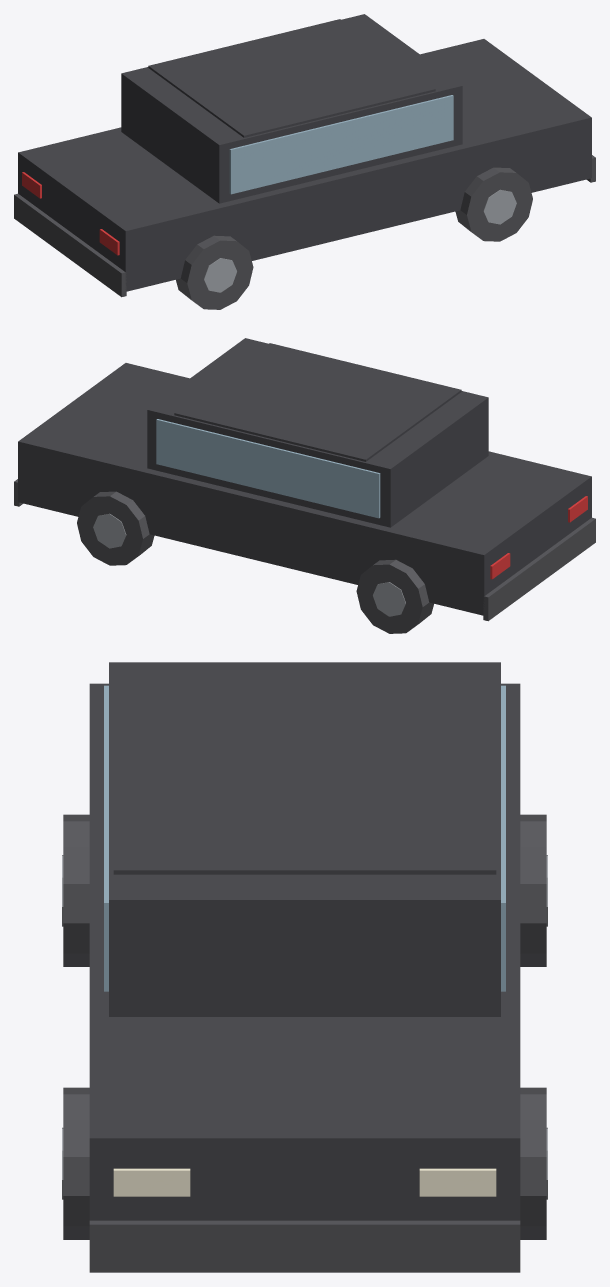
File: dm_carsedanblack.glb
3 views of the same model, one above another, from view 1: azimuth 30°, elevation 25°; view 2: azimuth 150°, elevation 25°; view 3: azimuth 270°, elevation 25° (orthographic). The views are drawn at different scales.
Parts seen in each view (by area): view 1: carsedanblack; view 2: carsedanblack; view 3: carsedanblack.
Part boxes in pixels (left/top/right/bottom): carsedanblack: left=14, top=14, right=595, bottom=309; carsedanblack: left=14, top=338, right=595, bottom=633; carsedanblack: left=62, top=662, right=547, bottom=1272.
Size of the model in its own units: 4.58 by 1.44 by 2.03.
